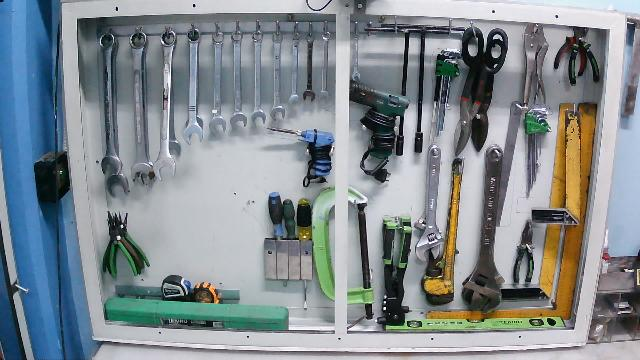solder_electrical: (265, 125, 335, 189)
